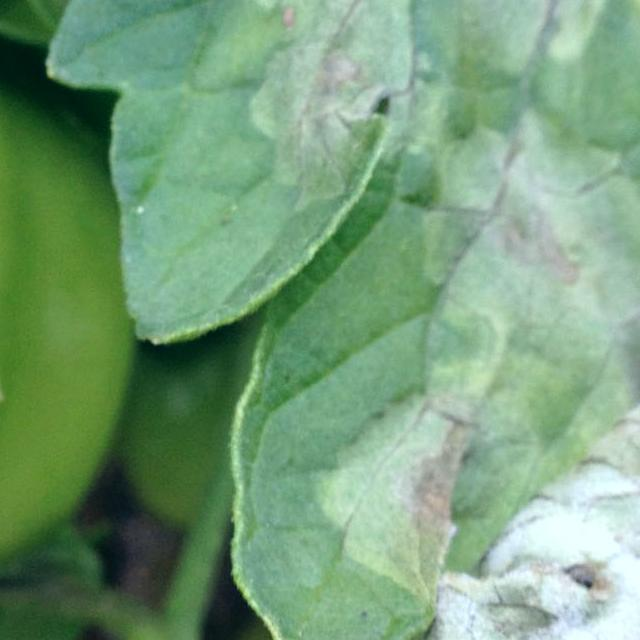Tomato leaf late blight: (206, 0, 640, 640), (58, 0, 517, 385), (0, 525, 72, 640)
